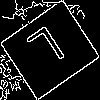L: (25, 24, 72, 78)
